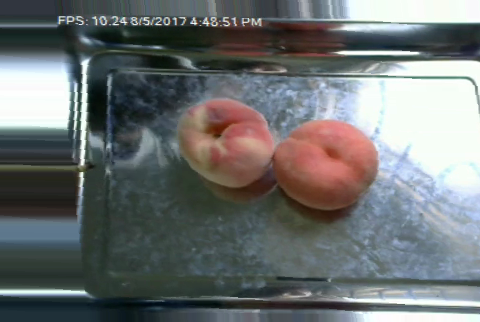Peach: (274, 119, 380, 210), (177, 97, 276, 189)
